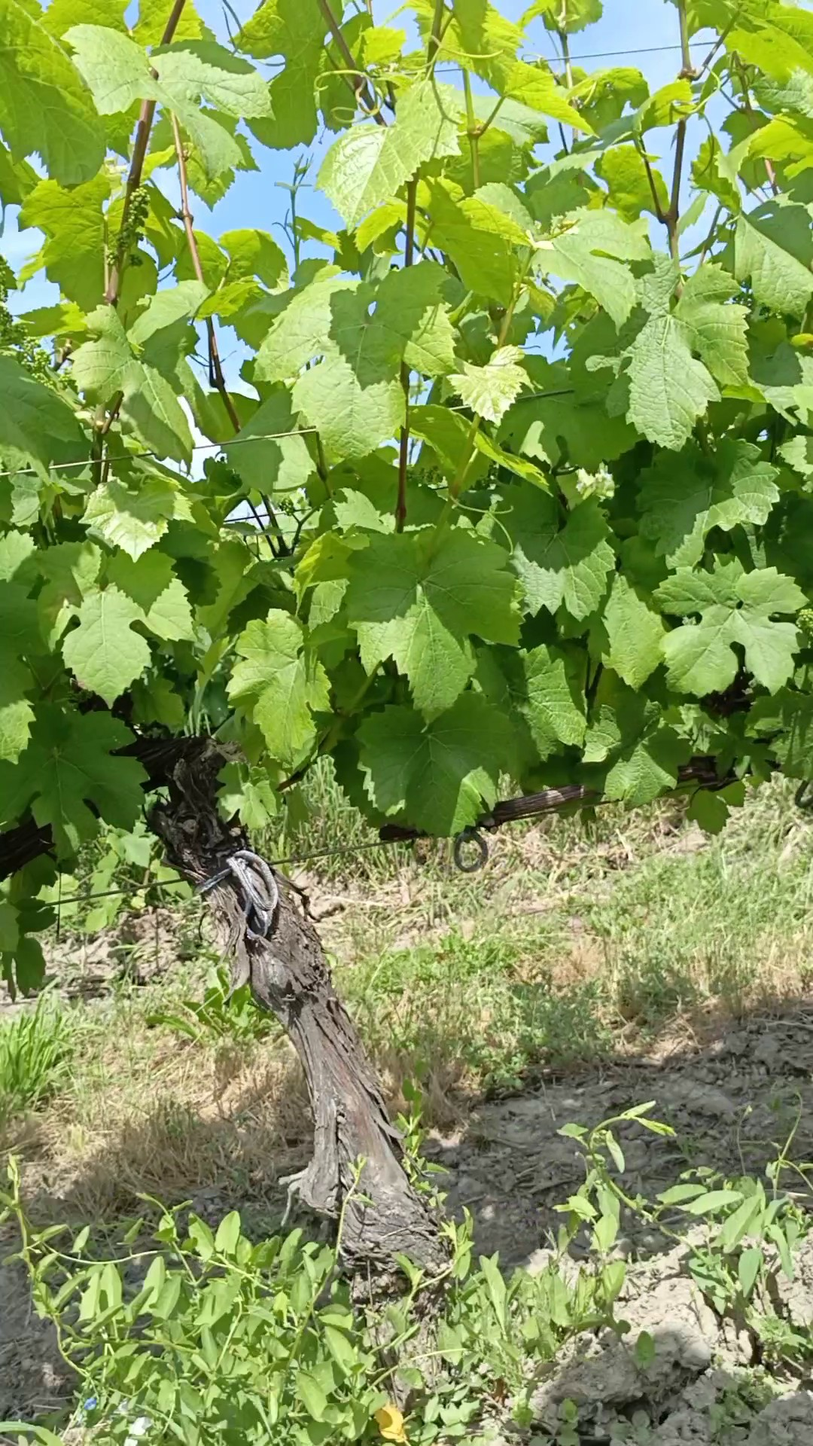vine_trunk: (151, 739, 444, 1274)
